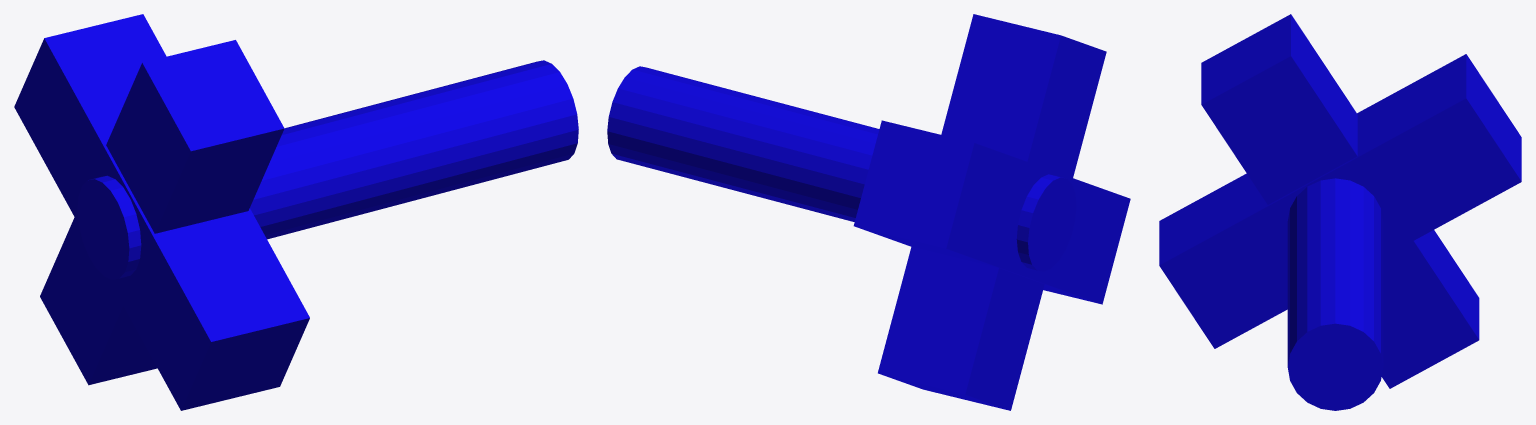
The model's file is valvula.FBX.
3 views of the same model, side by side, from view 1: azimuth 30°, elevation 25°; view 2: azimuth 150°, elevation 25°; view 3: azimuth 270°, elevation 25° (orthographic). The views are drawn at different scales.
Visible parts, largest first — view 1: Cilindro.007; view 2: Cilindro.007; view 3: Cilindro.007.
Part boxes in pixels (x1=…): Cilindro.007: x1=14, y1=14, x2=578, y2=410; Cilindro.007: x1=607, y1=14, x2=1130, y2=410; Cilindro.007: x1=1159, y1=14, x2=1521, y2=410.
Size of the model in its own units: 5.63 by 4.32 by 4.26.
